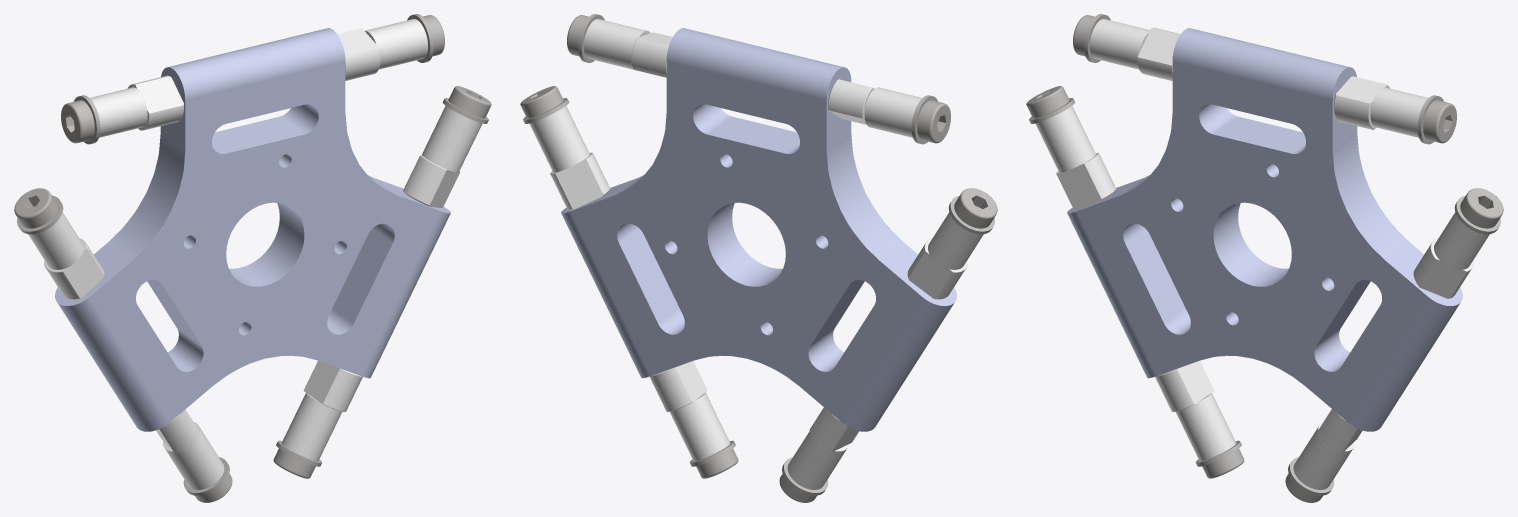
File: IGUS_Delta_Effector.glb
3 views of the same model, side by side, from view 1: azimuth 30°, elevation 25°; view 2: azimuth 150°, elevation 25°; view 3: azimuth 330°, elevation 25° (orthographic).
Parts seen in each view (by area): view 1: IGUS_Delta_Effector.IGS (×11); view 2: IGUS_Delta_Effector.IGS (×11); view 3: IGUS_Delta_Effector.IGS (×11).
Boxes of the visible parts, x1,y1,x2,y2 form: IGUS_Delta_Effector.IGS (×11): (14, 19, 491, 489); IGUS_Delta_Effector.IGS (×11): (520, 19, 997, 489); IGUS_Delta_Effector.IGS (×11): (1026, 19, 1503, 489).
Bounding box in the file's own units: 0.1322 × 0.1177 × 0.012.
